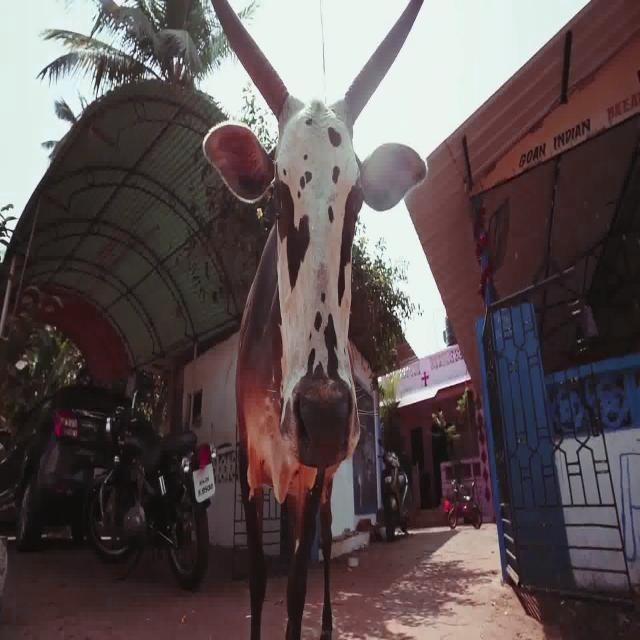cow: (204, 0, 425, 640)
